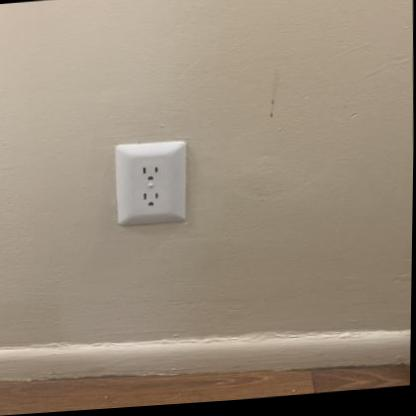OUTLET: (111, 137, 189, 229)
